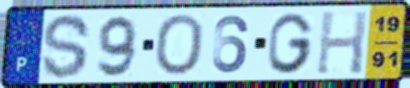6: (211, 13, 250, 75)
9: (96, 13, 139, 78)
G: (266, 11, 316, 75)
H: (313, 9, 370, 76)
O: (152, 12, 206, 77)
S: (40, 12, 93, 81)
